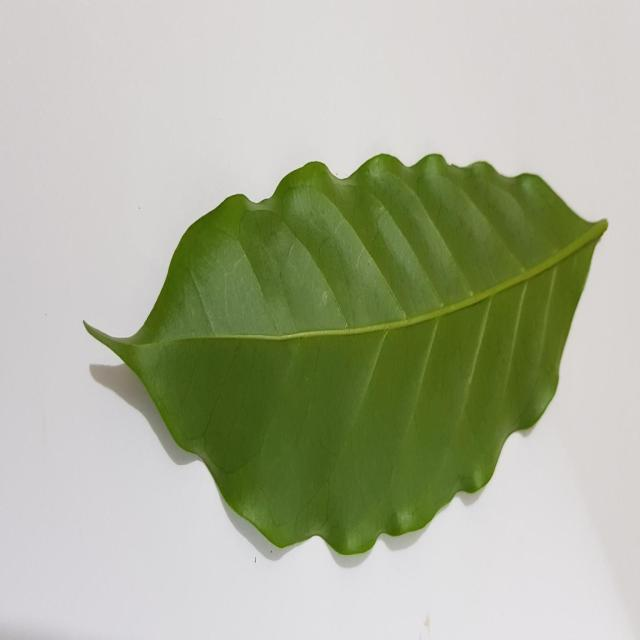Sanas: (82, 154, 609, 569)
